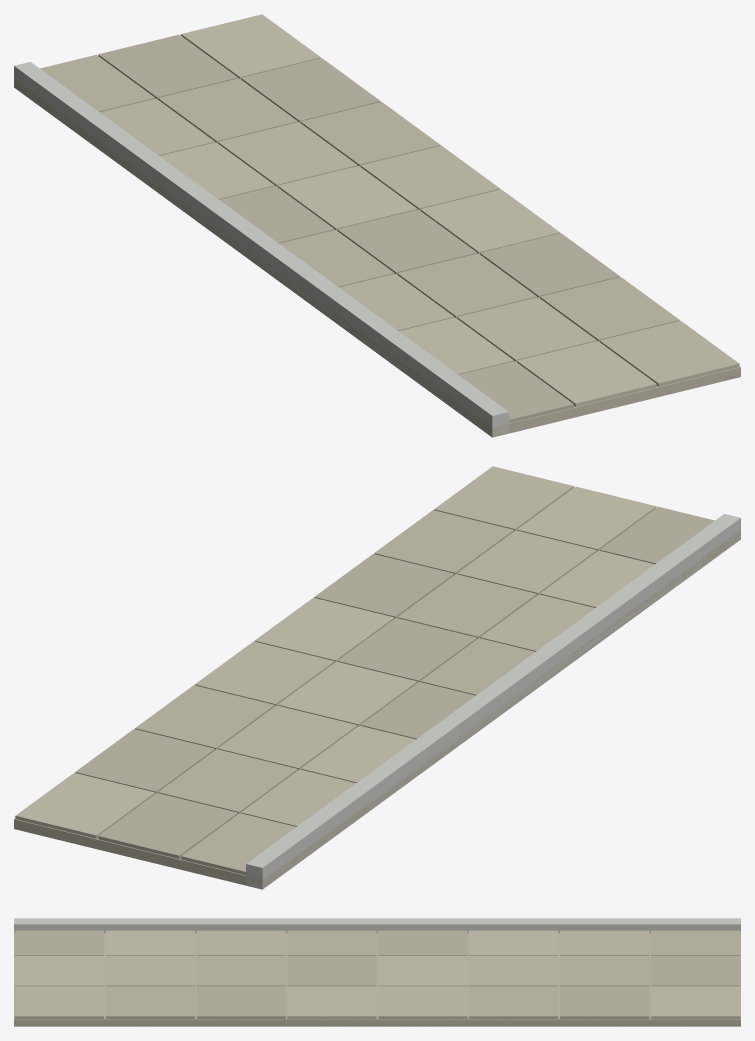
Rendered from promenade_8m.glb.
3 renders of one model, top to bottom at view 1: azimuth 30°, elevation 25°; view 2: azimuth 150°, elevation 25°; view 3: azimuth 270°, elevation 25°, orthographic. The views are drawn at different scales.
Parts seen in each view (by area): view 1: promenade_8m; view 2: promenade_8m; view 3: promenade_8m.
Part boxes in pixels (left/top/right/bottom): promenade_8m: left=14, top=14, right=740, bottom=437; promenade_8m: left=14, top=466, right=740, bottom=889; promenade_8m: left=14, top=918, right=740, bottom=1026.
Size of the model in its own units: 2.4 by 0.2 by 8.
